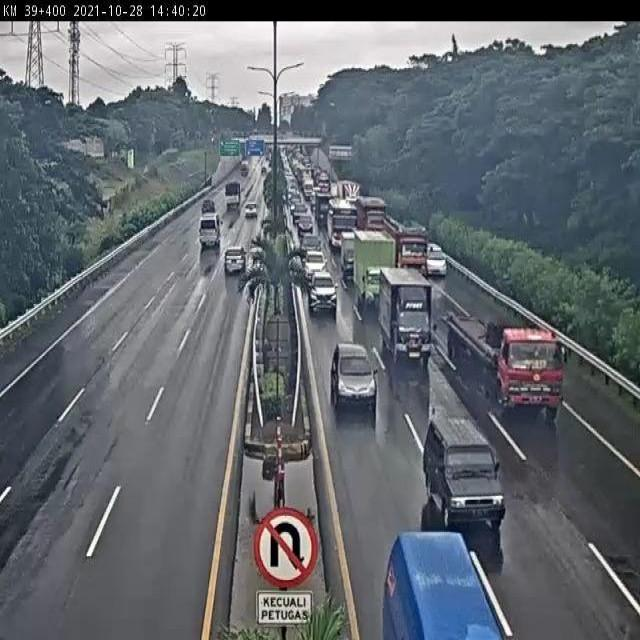car: (422, 417, 504, 532), (330, 342, 377, 409), (307, 269, 338, 312), (423, 238, 448, 278), (222, 242, 248, 274), (304, 250, 326, 278)
small bus: (197, 212, 225, 251)
truck-l-: (385, 214, 427, 278)
truck-m-: (375, 266, 433, 362), (355, 228, 394, 308)
truck-s-: (338, 227, 356, 273)
truck-xl-: (444, 305, 563, 415)
